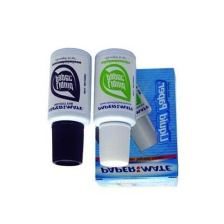book: (91, 65, 181, 189)
correction_fluid: (45, 45, 92, 167), (92, 46, 138, 168)
